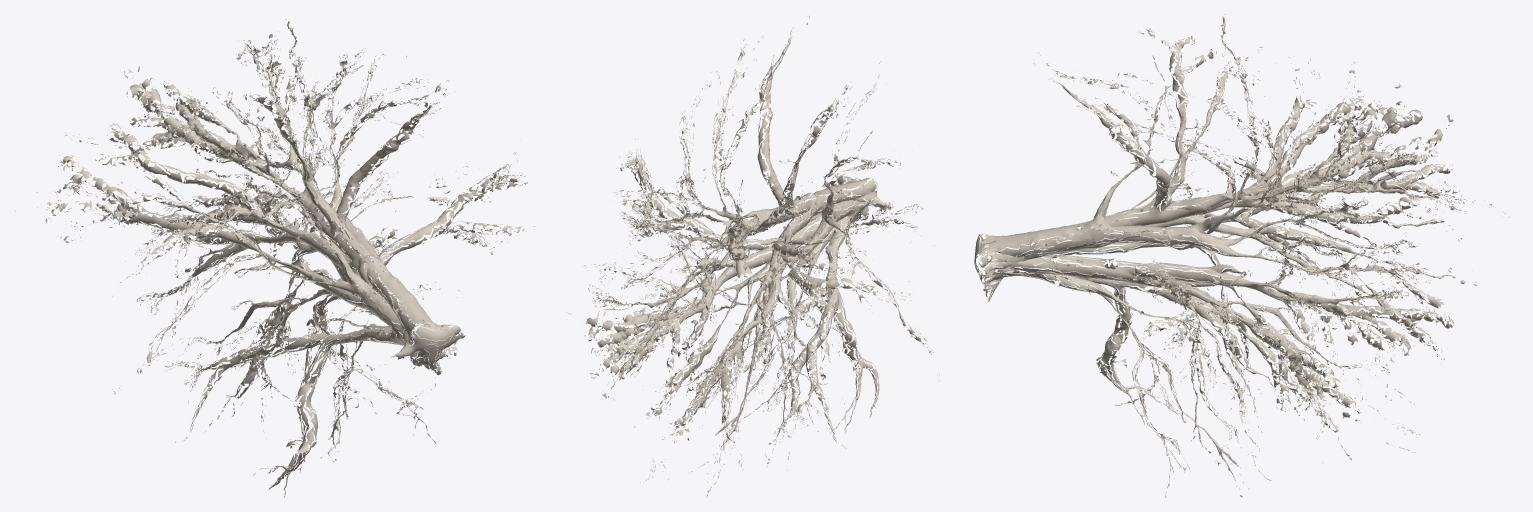
Rendered from tree_1_cand00.glb.
3 renders of one model, left to right at view 1: azimuth 30°, elevation 25°; view 2: azimuth 150°, elevation 25°; view 3: azimuth 270°, elevation 25°, orthographic. The views are drawn at different scales.
Visible parts, largest first — view 1: world; view 2: world; view 3: world.
Part boxes in pixels (box(x1,y1,x2,y2)): world: box(15, 19, 535, 497); world: box(566, 15, 940, 496); world: box(974, 14, 1510, 497).
Size of the model in its own units: 1.74 by 1.84 by 1.99.
